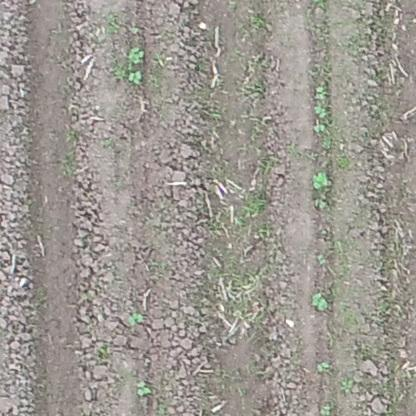vc: (309, 291, 329, 312), (124, 69, 144, 87), (310, 170, 330, 188), (133, 380, 154, 397), (125, 47, 147, 63), (127, 311, 145, 326), (314, 358, 330, 373), (314, 104, 329, 117), (314, 86, 327, 99), (314, 122, 326, 134), (314, 201, 328, 210)
